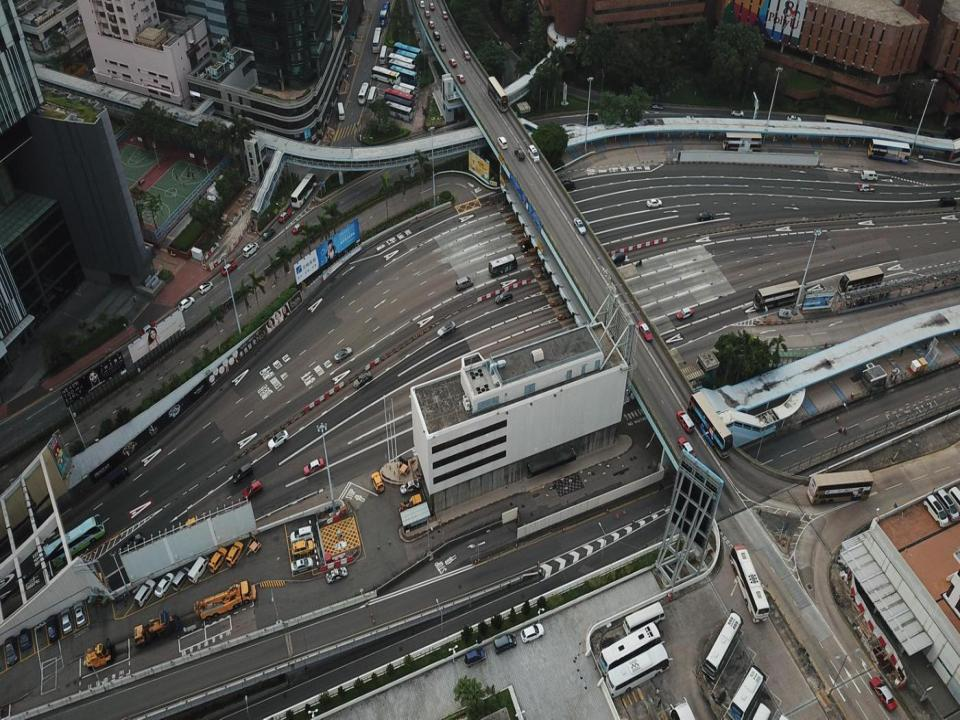bus: (605, 641, 672, 697), (40, 514, 105, 568), (599, 622, 660, 676), (686, 390, 733, 460), (729, 544, 769, 623), (702, 608, 743, 679), (36, 571, 108, 603), (806, 470, 873, 504), (726, 664, 766, 719), (622, 601, 665, 635), (753, 280, 801, 310), (837, 266, 884, 295), (866, 139, 910, 164), (290, 173, 318, 208), (822, 114, 863, 137), (723, 130, 761, 154), (488, 254, 518, 279), (488, 74, 508, 111), (384, 86, 415, 109), (392, 41, 421, 65), (388, 51, 416, 75), (383, 93, 412, 116), (387, 57, 416, 80), (371, 65, 400, 87), (389, 65, 418, 87), (383, 102, 413, 122), (388, 84, 414, 105), (396, 48, 418, 72), (398, 80, 416, 99), (358, 81, 370, 105), (379, 2, 390, 26), (372, 27, 382, 53), (367, 86, 378, 106), (380, 44, 388, 64), (337, 101, 345, 120)
car: (869, 676, 897, 711), (154, 572, 175, 598), (120, 532, 144, 552), (520, 623, 544, 643), (291, 556, 314, 575), (267, 431, 288, 450), (677, 437, 696, 458), (5, 635, 18, 665), (46, 613, 59, 642), (325, 566, 347, 583), (302, 458, 324, 475), (637, 320, 653, 342), (73, 601, 86, 628), (60, 608, 73, 634), (353, 371, 372, 388), (334, 346, 352, 362), (436, 321, 454, 337), (400, 479, 420, 493), (19, 627, 30, 650), (220, 260, 236, 275), (178, 296, 194, 311), (495, 291, 513, 304), (676, 307, 694, 320), (574, 216, 586, 234), (520, 240, 537, 252), (278, 209, 291, 224), (291, 220, 306, 233), (199, 282, 213, 295), (857, 183, 875, 193), (560, 180, 576, 191), (697, 210, 713, 220), (263, 228, 275, 241), (646, 198, 662, 207), (787, 114, 801, 124), (515, 147, 525, 161), (918, 132, 934, 140), (730, 109, 744, 117), (456, 73, 466, 83), (586, 113, 598, 121), (652, 103, 663, 110), (463, 49, 470, 60), (438, 43, 446, 51), (449, 58, 457, 66), (428, 20, 435, 28), (442, 11, 448, 20), (419, 0, 425, 8), (424, 10, 430, 17), (429, 2, 434, 10)
truck: (194, 580, 256, 620), (134, 610, 180, 648), (399, 494, 421, 513)
van: (922, 494, 948, 528), (935, 489, 959, 521), (134, 578, 156, 608), (187, 554, 209, 584), (208, 547, 228, 574), (172, 566, 192, 591), (107, 465, 130, 486), (225, 541, 243, 567), (493, 633, 516, 653), (676, 410, 695, 433), (232, 463, 254, 482), (464, 648, 486, 667), (290, 525, 313, 543), (292, 539, 314, 557), (178, 516, 198, 535), (948, 486, 960, 516), (370, 470, 385, 493), (243, 480, 262, 498), (243, 242, 259, 258), (455, 276, 473, 290), (892, 124, 907, 139), (939, 195, 956, 208), (860, 169, 878, 181), (528, 144, 540, 162), (944, 129, 960, 142), (607, 252, 625, 262), (497, 135, 508, 149), (432, 30, 440, 41), (686, 114, 695, 122)
